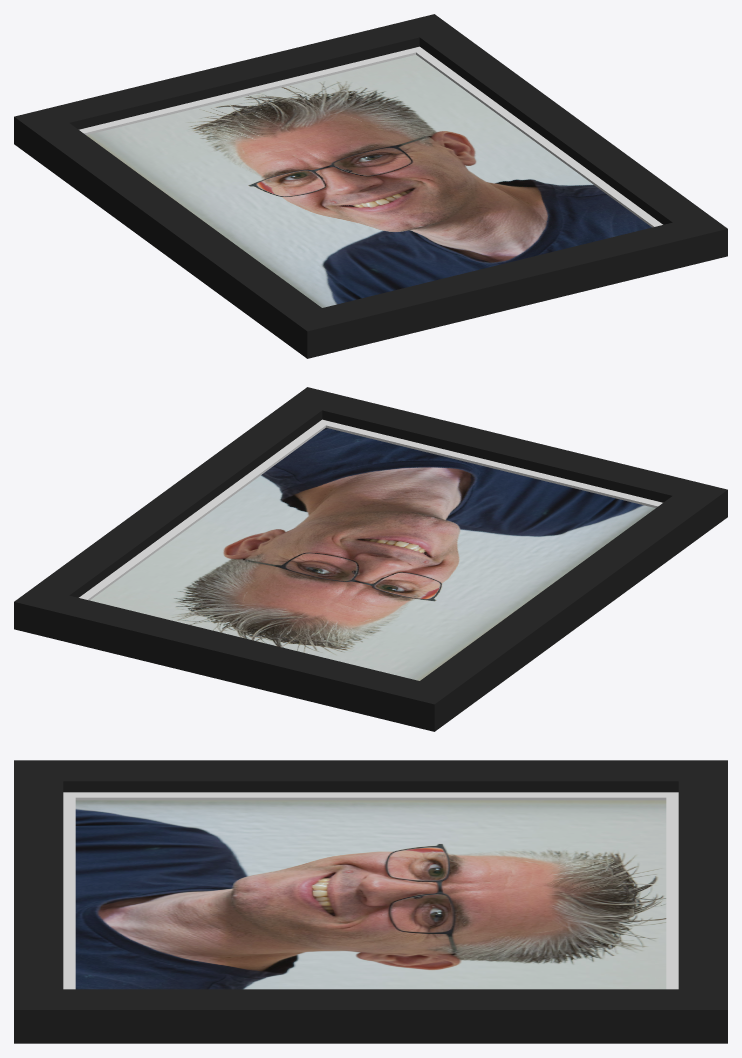
3 renders of one model, top to bottom at view 1: azimuth 30°, elevation 25°; view 2: azimuth 150°, elevation 25°; view 3: azimuth 270°, elevation 25°, orthographic. The views are drawn at different scales.
Visible parts, largest first — view 1: PhotoPlane.002, BuitenFrame, BinnenFrame; view 2: PhotoPlane.002, BuitenFrame, BinnenFrame; view 3: PhotoPlane.002, BuitenFrame, BinnenFrame.
Part boxes in pixels (box(x1,y1,x2,y2)): PhotoPlane.002: box(86, 55, 651, 307); BuitenFrame: box(14, 14, 727, 358); BinnenFrame: box(79, 46, 662, 227); PhotoPlane.002: box(90, 428, 655, 680); BuitenFrame: box(14, 387, 727, 731); BinnenFrame: box(79, 419, 662, 600); PhotoPlane.002: box(75, 800, 666, 989); BuitenFrame: box(14, 760, 727, 1043); BinnenFrame: box(63, 792, 678, 989).
Size of the model in its own units: 0.48 by 0.03 by 0.58.
Materials: 3 (1 with a texture image).
